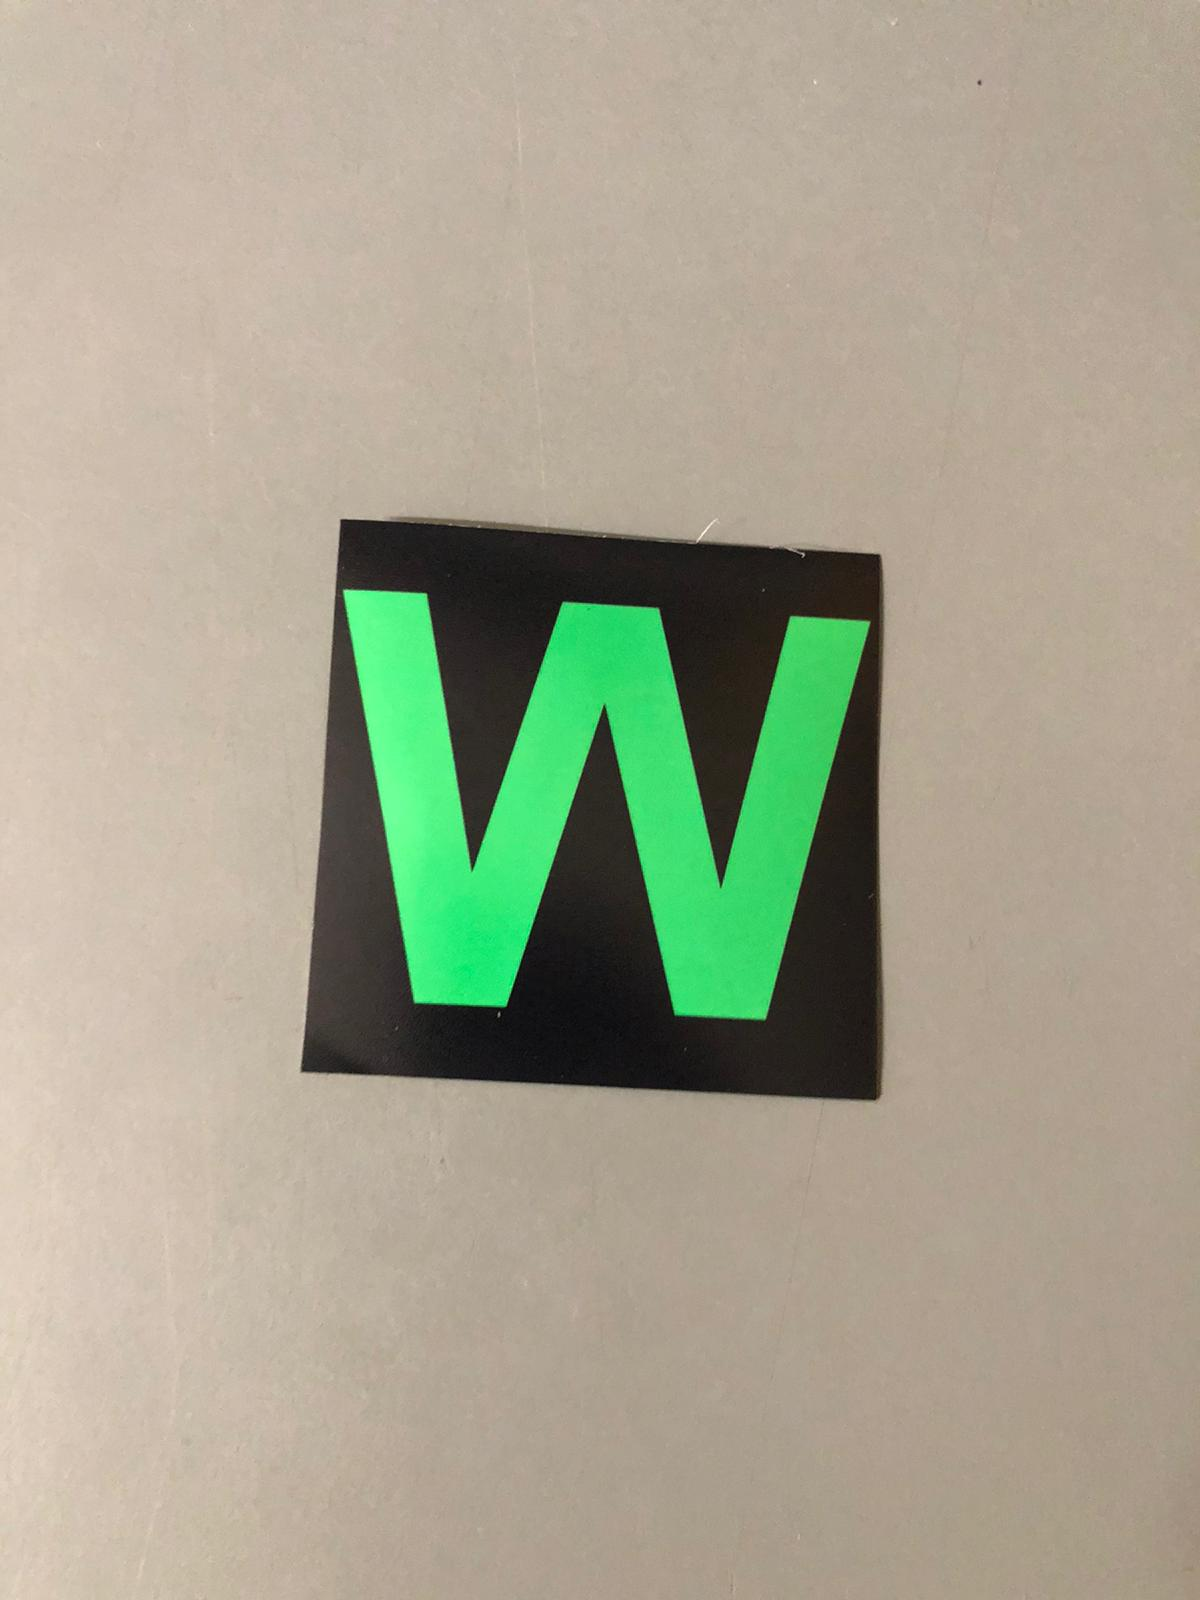W: (345, 535, 876, 1094)
